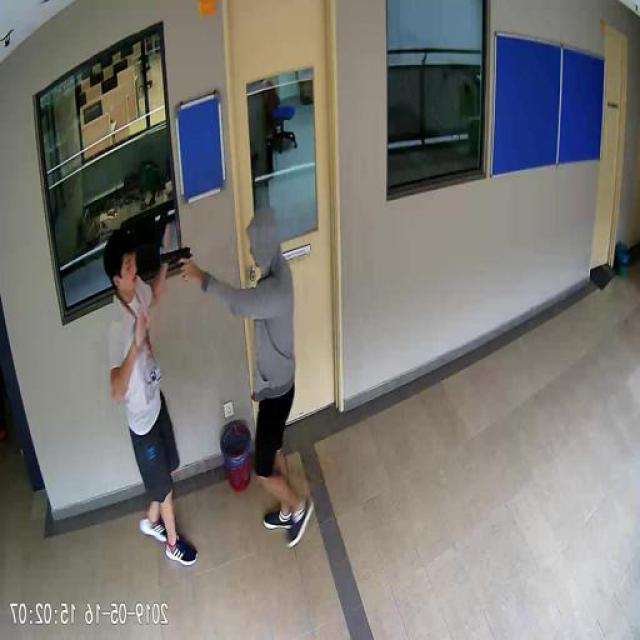Gun: (162, 245, 194, 280)
